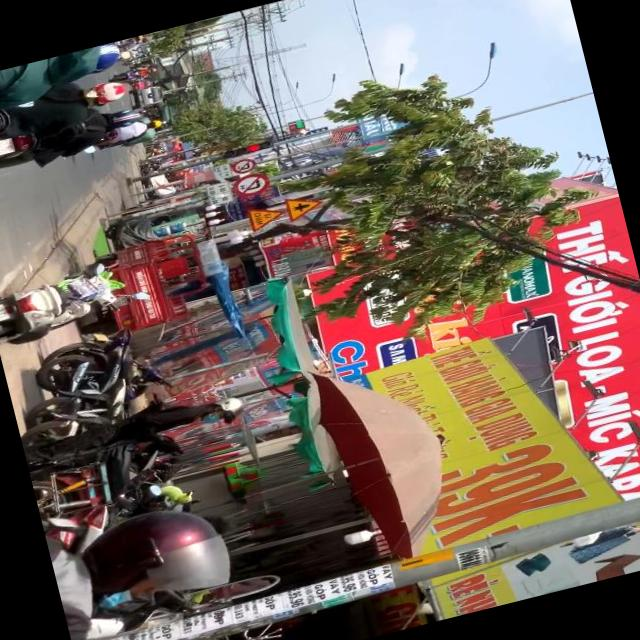W-207a: (285, 190, 325, 220)
W-245a: (246, 200, 286, 232)
